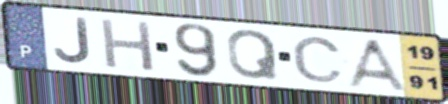9: (171, 22, 219, 79)
A: (342, 37, 410, 93)
C: (289, 35, 347, 84)
H: (98, 16, 158, 74)
J: (52, 16, 95, 66)
Q: (225, 28, 282, 82)
